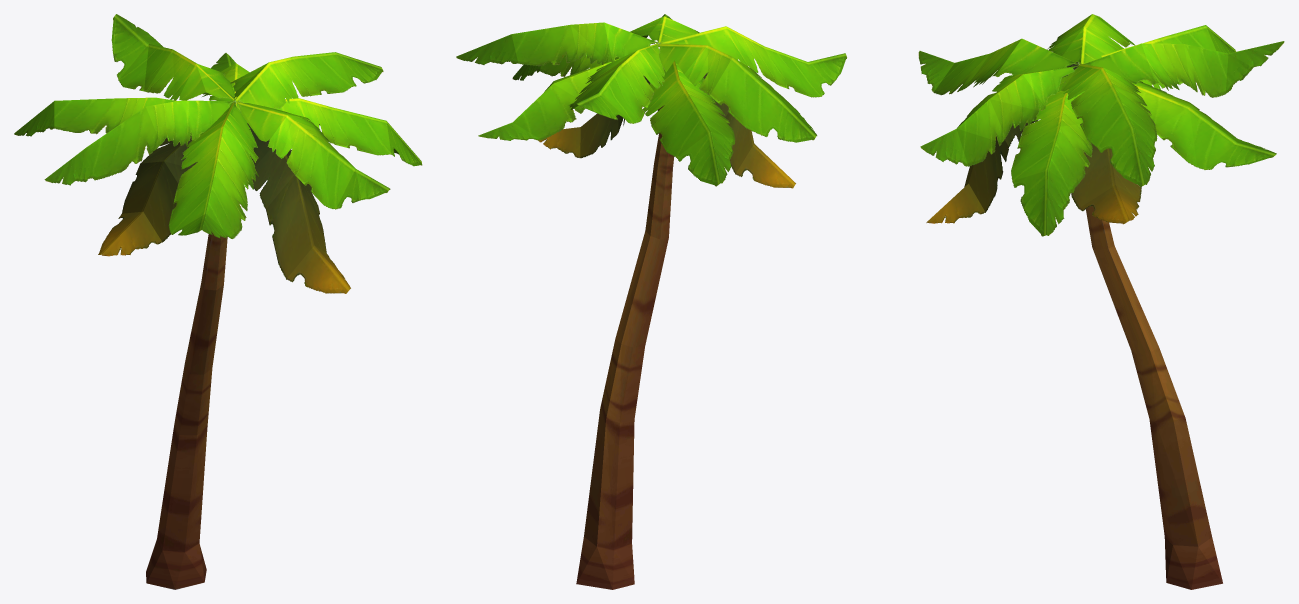
Rendered from shatan_yezishu02.fbx.
The picture shows the model from 3 angles, left to right: view 1: azimuth 30°, elevation 25°; view 2: azimuth 150°, elevation 25°; view 3: azimuth 270°, elevation 25°; orthographic projection. The views are drawn at different scales.
Parts seen in each view (by area): view 1: shatan_yezishu02; view 2: shatan_yezishu02; view 3: shatan_yezishu02.
Part boxes in pixels (left/top/right/bottom): shatan_yezishu02: left=14, top=14, right=422, bottom=589; shatan_yezishu02: left=456, top=14, right=847, bottom=589; shatan_yezishu02: left=918, top=14, right=1284, bottom=589.
Bounding box in the file's own units: 3.74 × 5.32 × 3.59.
